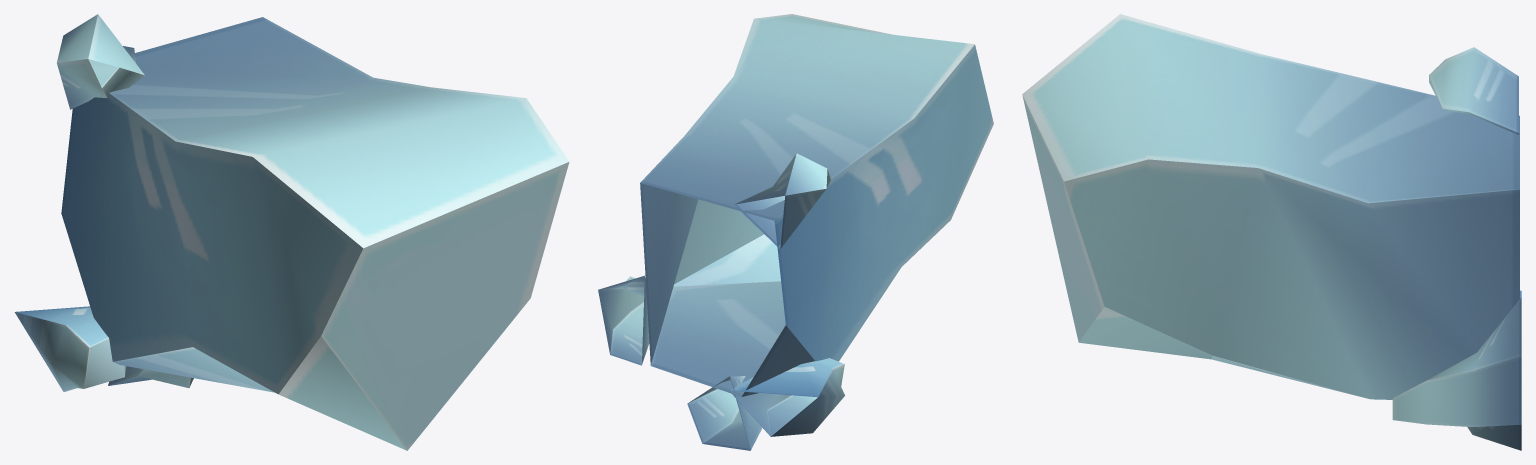
File: Weapon_CryoGun_Ice_a6e73657__Weapon_CryoGun_Ice_534eab57_c1f257.obj
3 views of the same model, side by side, from view 1: azimuth 30°, elevation 25°; view 2: azimuth 150°, elevation 25°; view 3: azimuth 270°, elevation 25° (orthographic). The views are drawn at different scales.
Bounding box in the file's own units: 1.17 × 1.51 × 1.83.
1 material, 1 textured.
